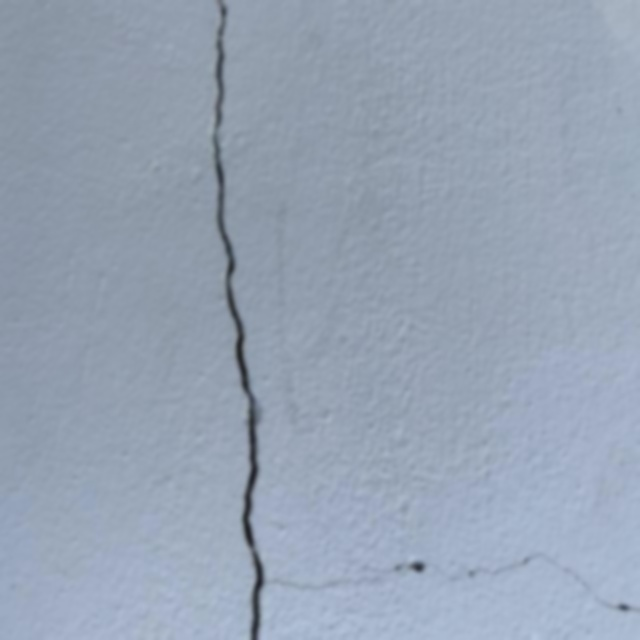SurfaceCrack: (164, 0, 316, 639)
